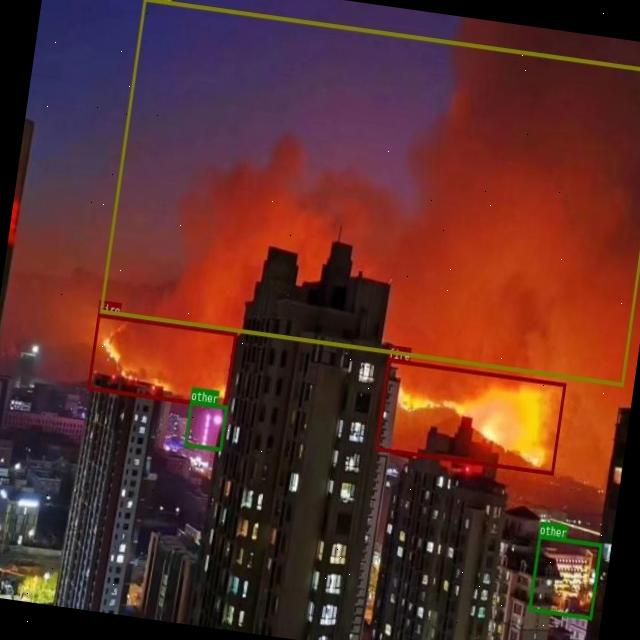fire: (374, 358, 566, 475), (88, 312, 236, 409)
smoke: (100, 0, 640, 385)
